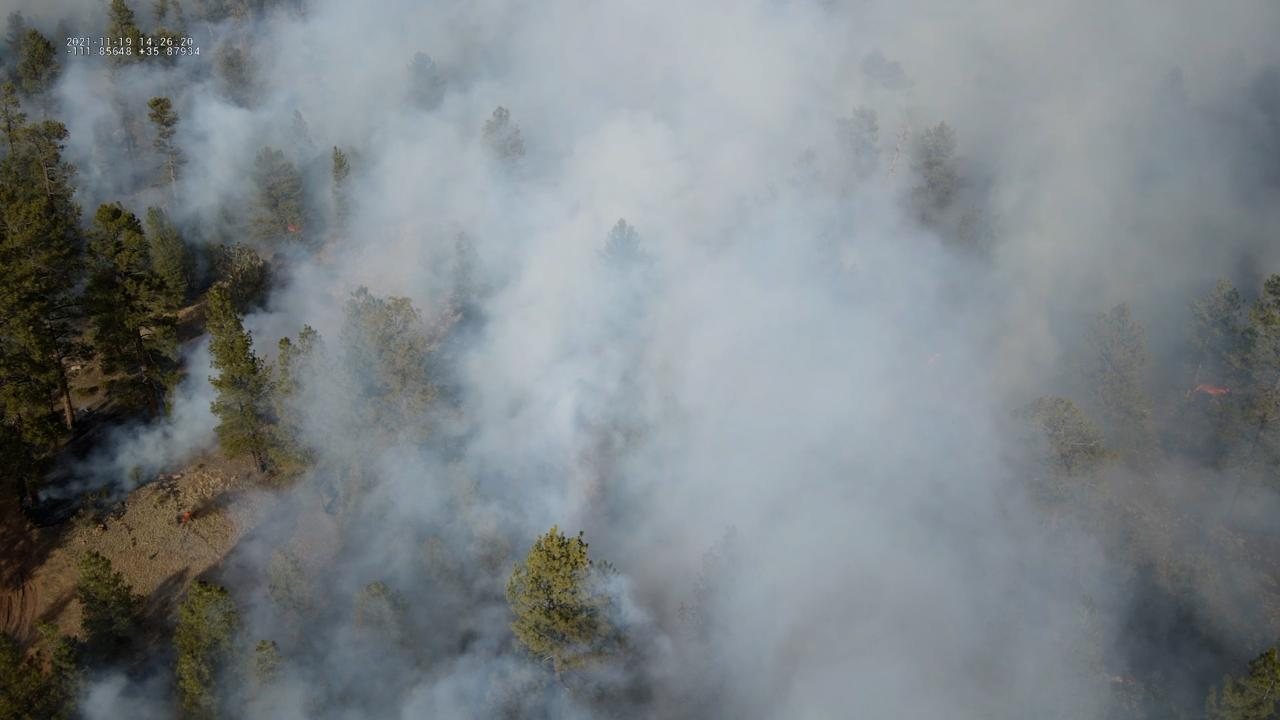fire: (1193, 382, 1232, 398), (181, 512, 192, 525), (287, 224, 302, 233)
smoke: (0, 0, 1280, 720)
